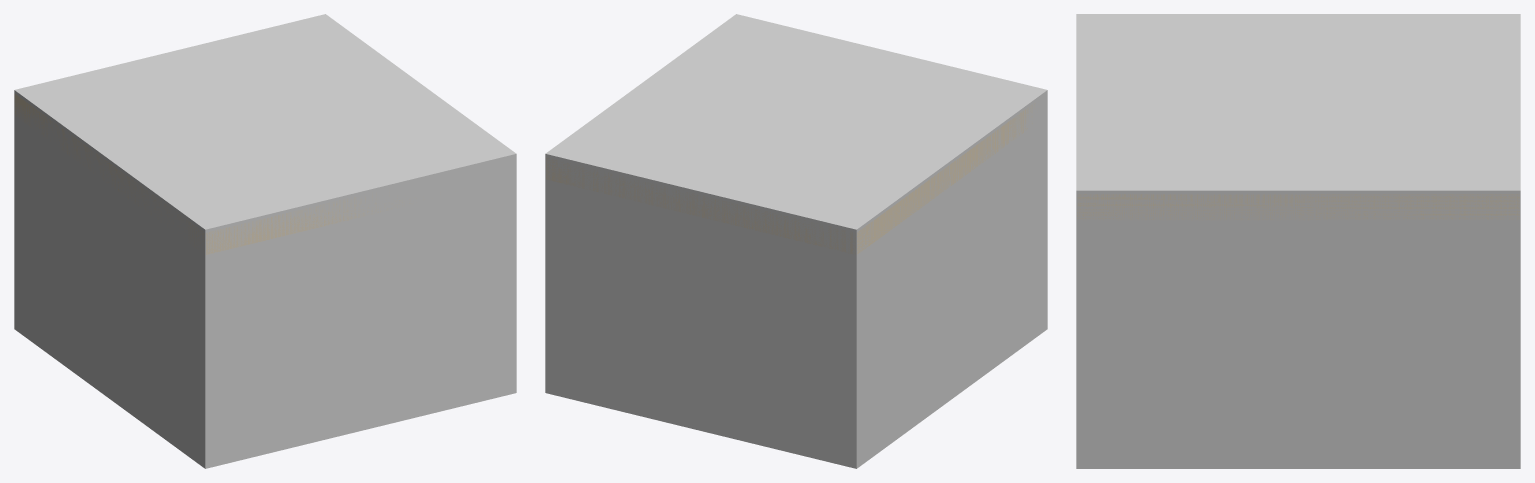
Rendered from cart-storage_basic.glb.
3 renders of one model, left to right at view 1: azimuth 30°, elevation 25°; view 2: azimuth 150°, elevation 25°; view 3: azimuth 270°, elevation 25°, orthographic. The views are drawn at different scales.
Visible parts, largest first — view 1: COL_cart-storage, MESH_ShelterRoof; view 2: COL_cart-storage, MESH_ShelterRoof; view 3: COL_cart-storage, MESH_ShelterRoof.
Boxes of the visible parts, x1,y1,x2,y2 form: COL_cart-storage: [14, 14, 516, 468]; MESH_ShelterRoof: [14, 94, 416, 254]; COL_cart-storage: [545, 14, 1047, 468]; MESH_ShelterRoof: [546, 103, 1035, 254]; COL_cart-storage: [1076, 14, 1520, 468]; MESH_ShelterRoof: [1077, 194, 1519, 220].
Bounding box in the file's own units: 3.2 × 2.35 × 3.4.
